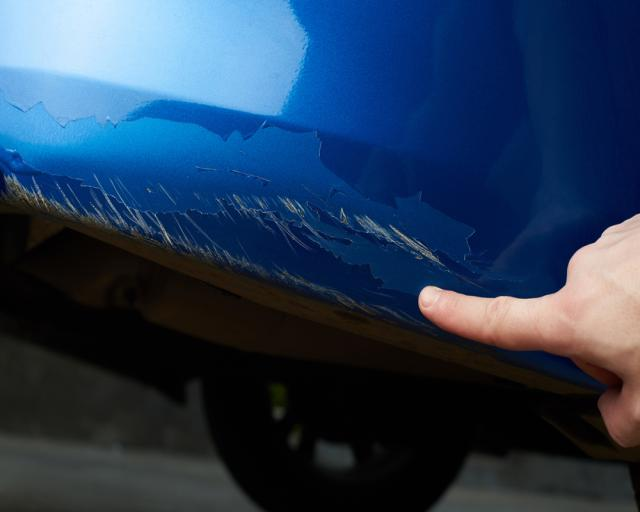scratch: (0, 147, 478, 331)
